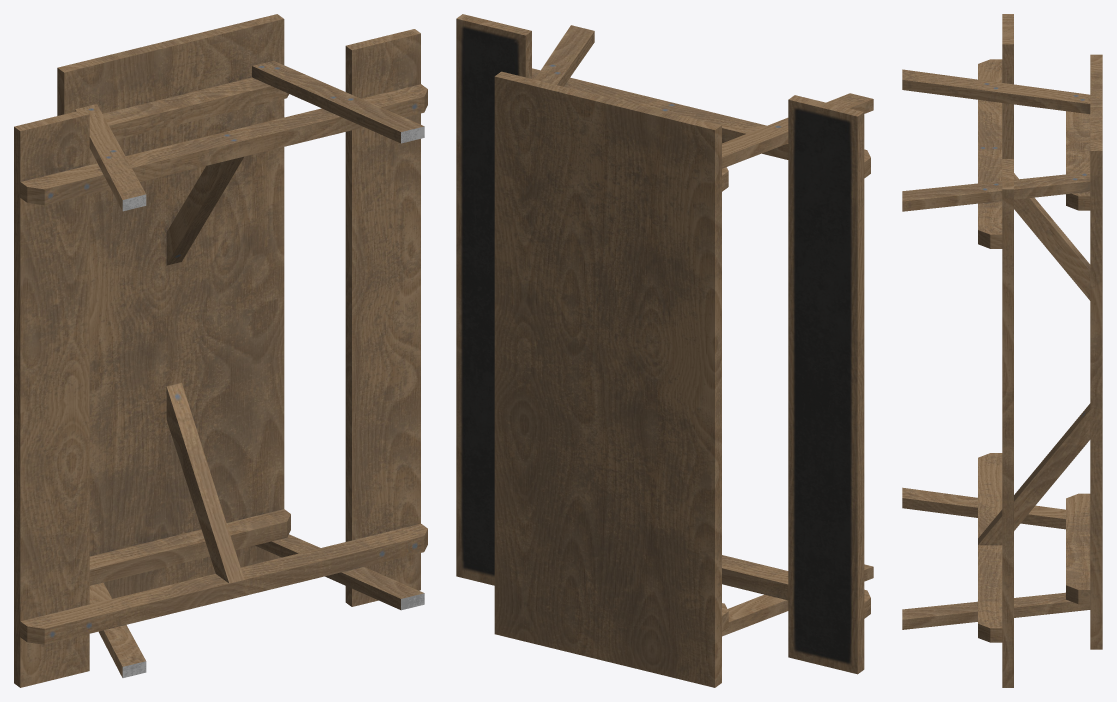
File: table.fbx
3 views of the same model, side by side, from view 1: azimuth 30°, elevation 25°; view 2: azimuth 150°, elevation 25°; view 3: azimuth 270°, elevation 25° (orthographic). The views are drawn at different scales.
Visible parts, largest first — view 1: Table_low; view 2: Table_low; view 3: Table_low.
Part boxes in pixels (left/top/right/bottom): Table_low: left=14, top=14, right=427, bottom=687; Table_low: left=456, top=14, right=873, bottom=687; Table_low: left=902, top=14, right=1102, bottom=687.
Size of the model in its own units: 1.53 by 2.04 by 0.7415.
Materials: 1 (1 with a texture image).
